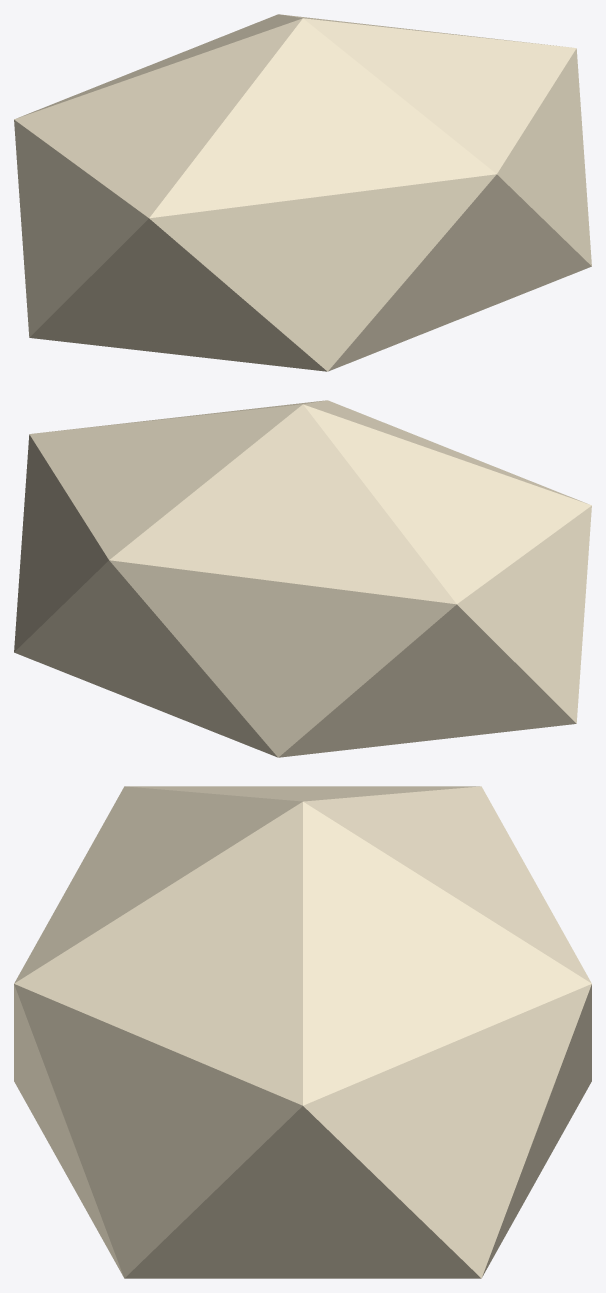
The model's file is meal-wrapper.glb.
3 renders of one model, top to bottom at view 1: azimuth 30°, elevation 25°; view 2: azimuth 150°, elevation 25°; view 3: azimuth 270°, elevation 25°, orthographic. The views are drawn at different scales.
Parts seen in each view (by area): view 1: Crumpled sandwich wrapper; view 2: Crumpled sandwich wrapper; view 3: Crumpled sandwich wrapper.
Part boxes in pixels (x1=…): Crumpled sandwich wrapper: x1=14, y1=14, x2=591, y2=371; Crumpled sandwich wrapper: x1=14, y1=400, x2=591, y2=757; Crumpled sandwich wrapper: x1=14, y1=786, x2=591, y2=1278.
Bounding box in the file's own units: 0.2361 × 0.144 × 0.1633.
